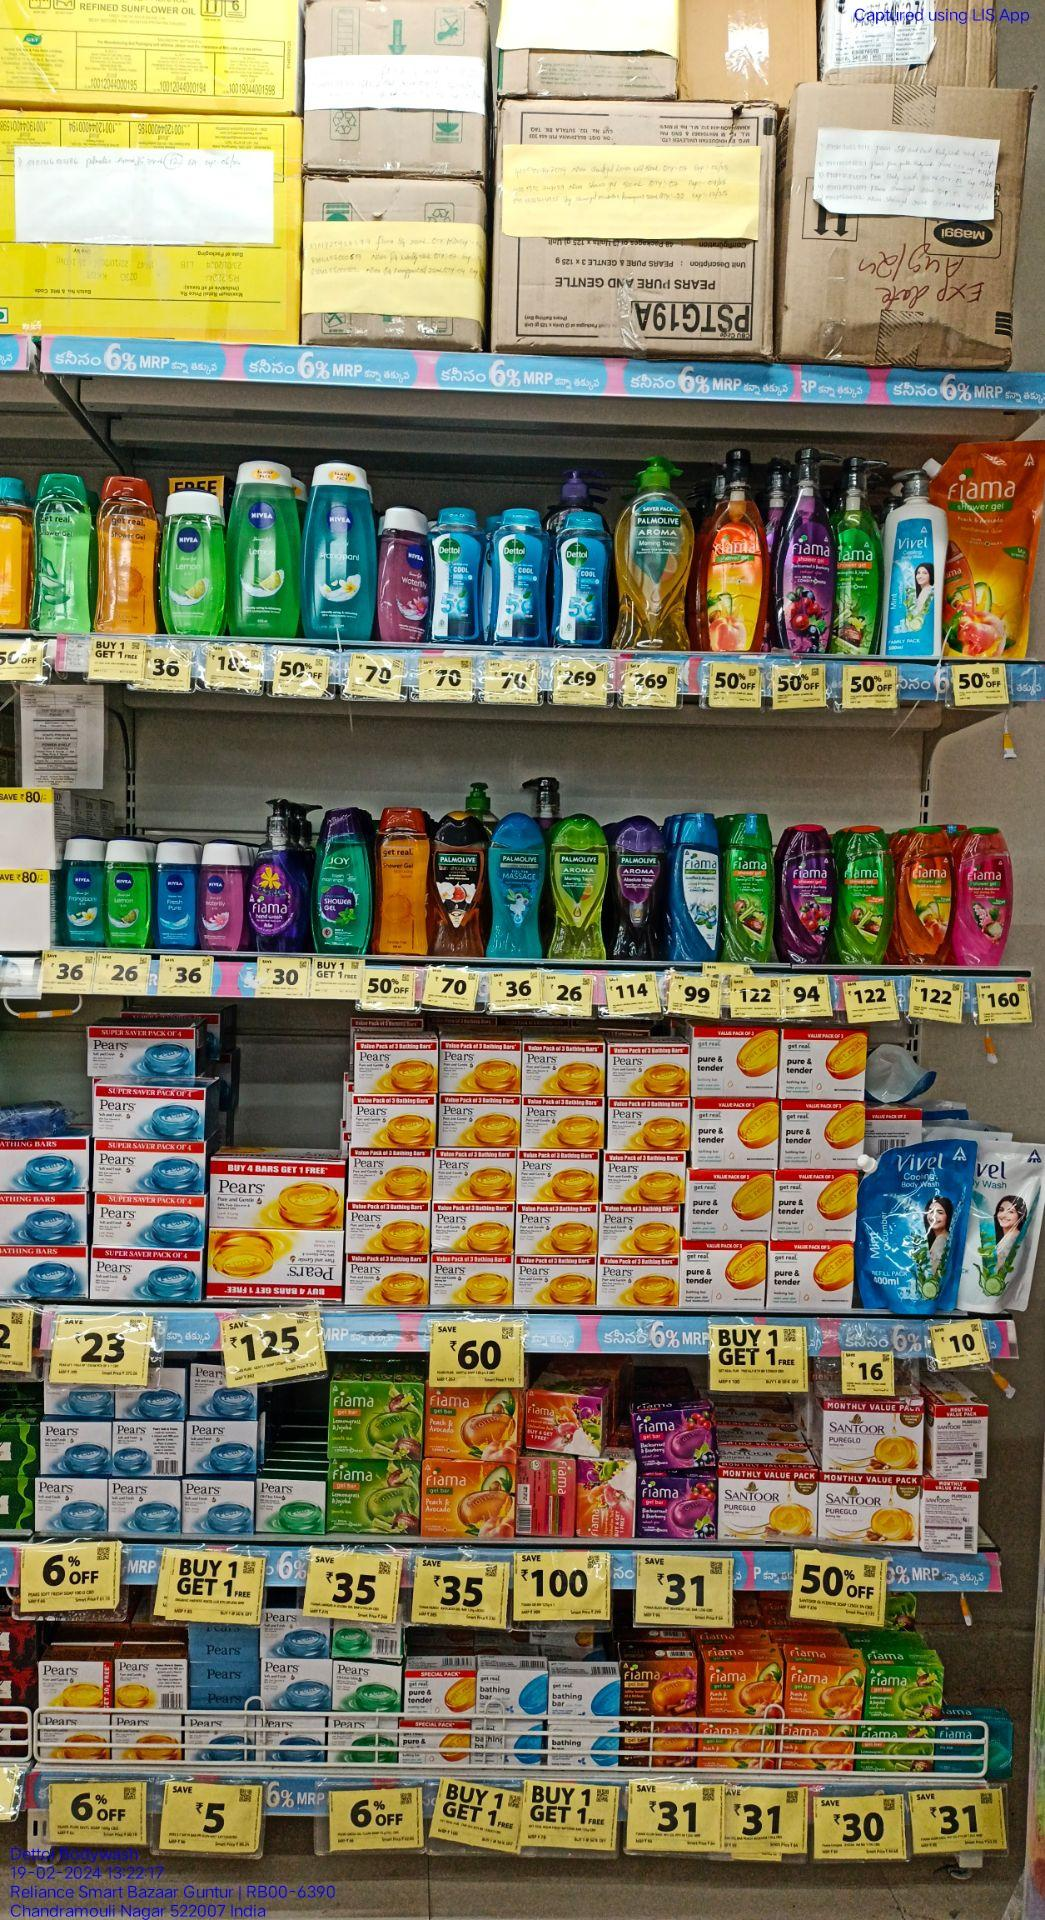Dettol_Bodywash_Cool: (431, 506, 484, 640), (494, 507, 543, 647), (553, 510, 601, 643)
Fiama_Shower_Gel_Lemongrass_and_Jojoba_250ML: (840, 827, 897, 965)
Fiama_Shower_Gel_Patchouli_and_Macadamia_250ML: (950, 831, 1010, 969)
Fiama_Shower_Gel_Peach_and_Avocado_250ML: (900, 826, 950, 966)
Joy_Shower_Gel_Mint_and_Eucalyptus_250ML: (311, 812, 371, 951)
Nivea_Shower_Gel_Frangipani_and_Oil_250ML: (306, 461, 376, 637), (60, 838, 106, 948)
Nivea_Shower_Gel_Lemon_and_Oil_250ML: (230, 461, 301, 634), (154, 485, 227, 643), (103, 838, 152, 947)
Nivea_Shower_Gel_Waterlily_and_Oil_250ML: (378, 502, 430, 642), (198, 844, 245, 955)
Palmolive_Aroma_Moments_Feel_The_Massage_Shower_Gel_250ML: (486, 817, 548, 957)
Palmolive_Aroma_Morning_Tonic_Shower_Gel_250ML: (553, 816, 605, 959)
Palmolive_Aroma_Relax_250ML: (606, 816, 660, 957)
Palmolive_Luminous_Oils_With_White_Orchid_Shower_Gel_250ML: (434, 815, 486, 959)
